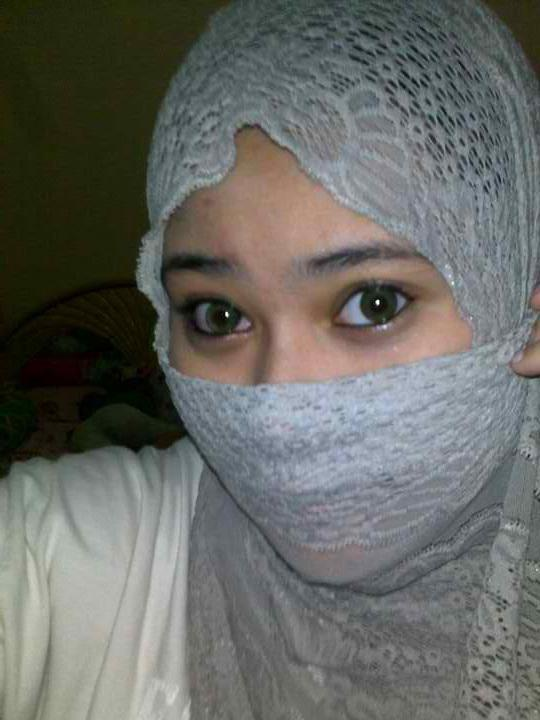OK: (153, 223, 509, 579)
